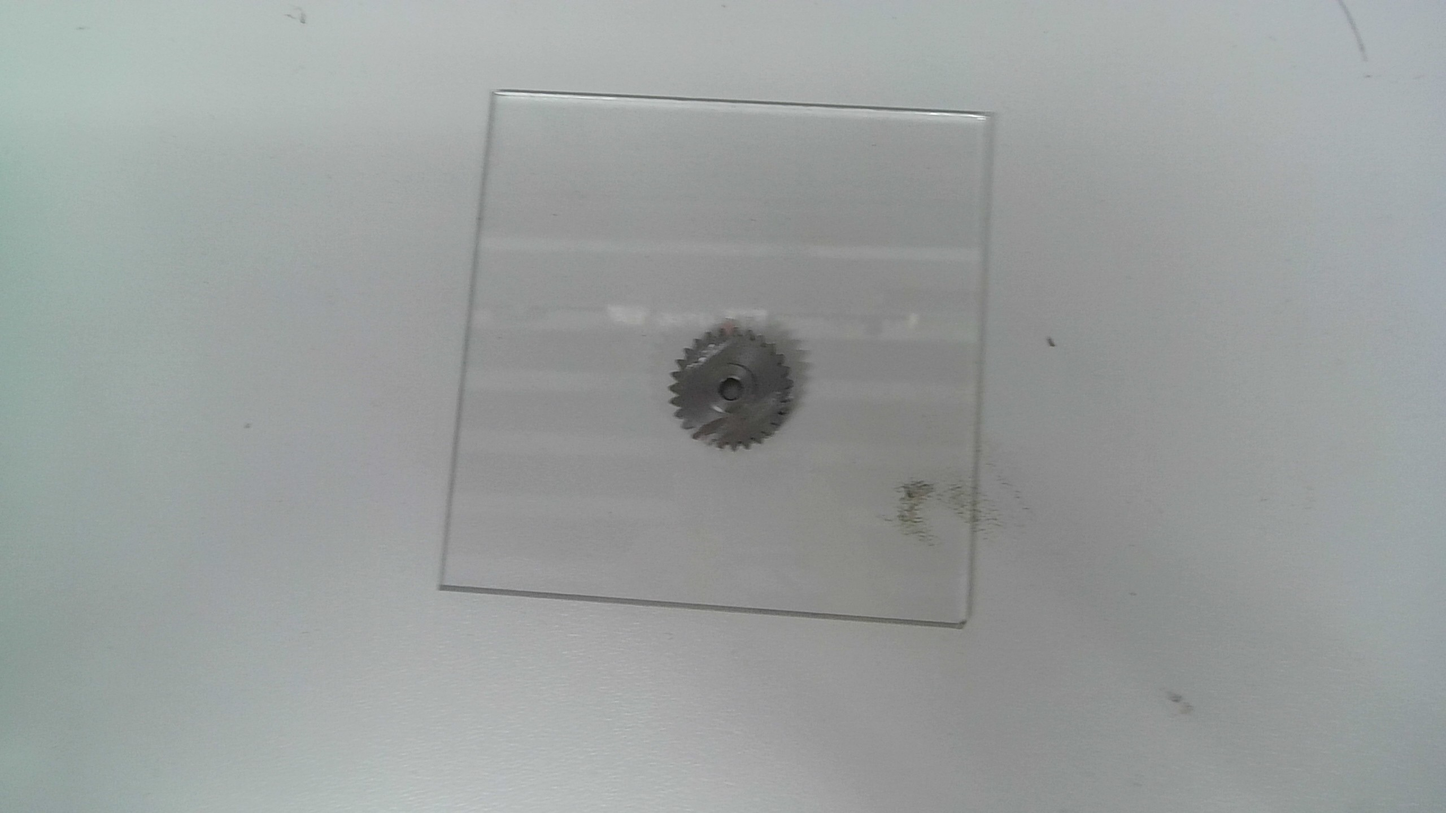gear: (668, 321, 795, 453)
